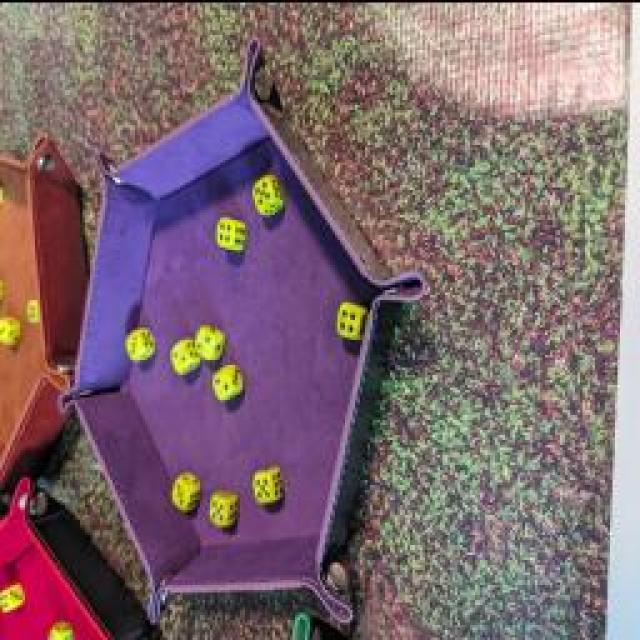dice_2: (170, 326, 200, 376), (212, 360, 242, 405), (195, 316, 225, 359)
dice_3: (122, 322, 156, 368), (172, 464, 200, 511), (0, 307, 22, 347), (45, 615, 77, 640)
dice_4: (331, 296, 371, 339), (212, 212, 246, 250)
dice_5: (250, 460, 288, 505), (204, 482, 238, 532), (250, 169, 285, 211), (24, 290, 44, 328)
dice_6: (0, 575, 25, 613)
